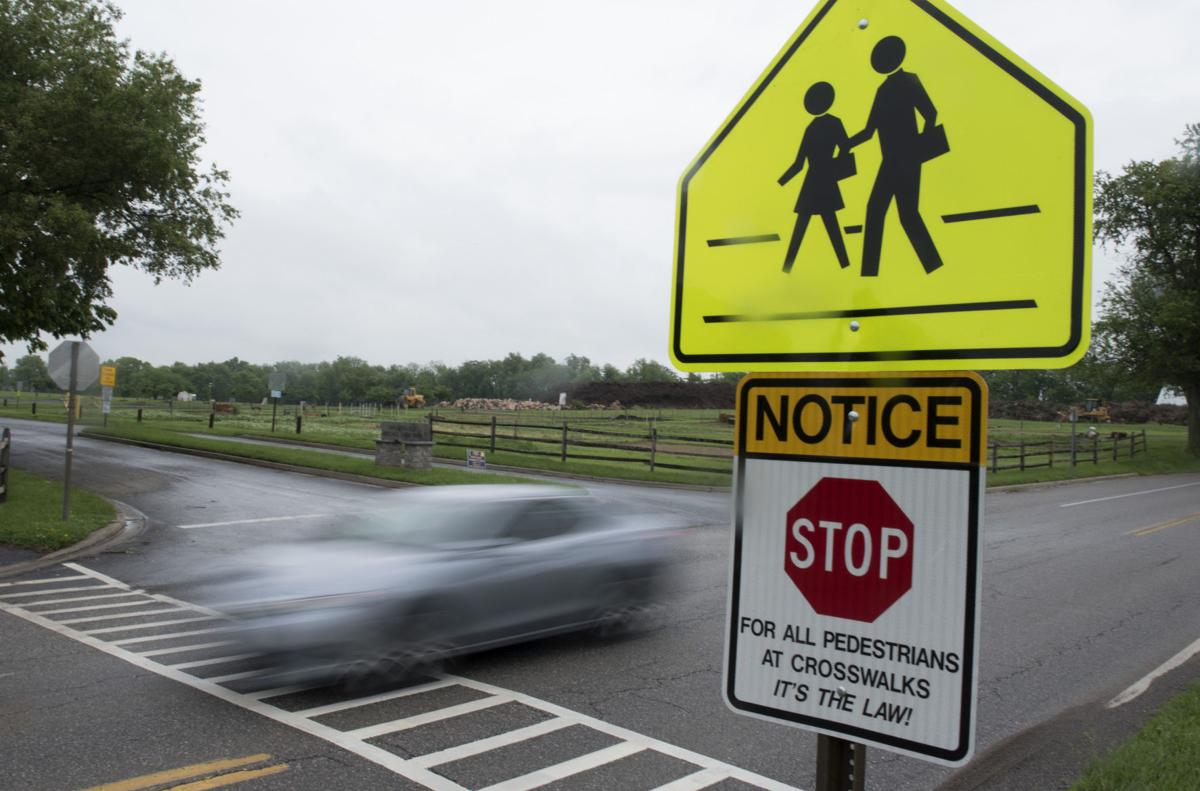slow: (670, 1, 1099, 372)
stop: (781, 474, 918, 623)
